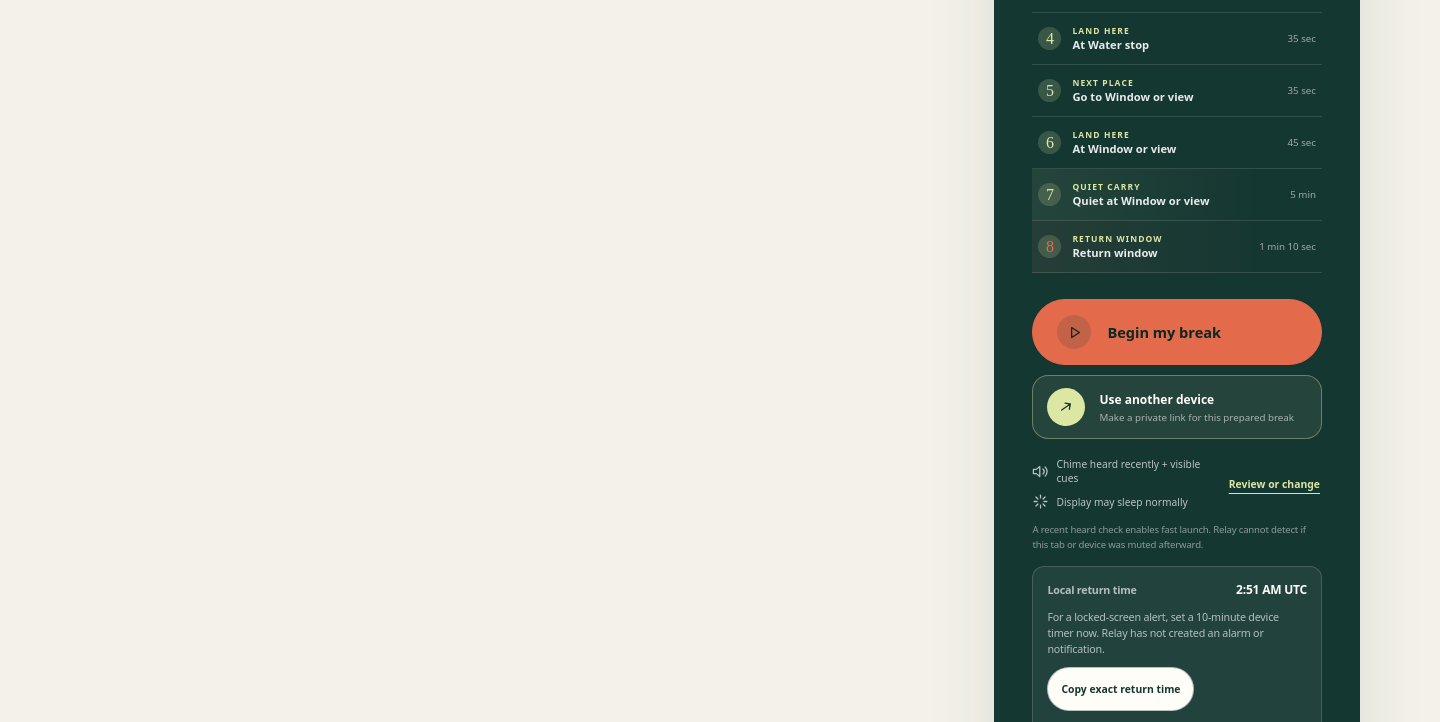
Test: Break Relay › honors explicit review-every-time without starting early
(page scrolled)
What coordinates should you click on to do the following:
click the button "Begin my break"
I would click on:
 (1177, 332)
Its box is [1032, 299, 1322, 365].
(page scrolled)
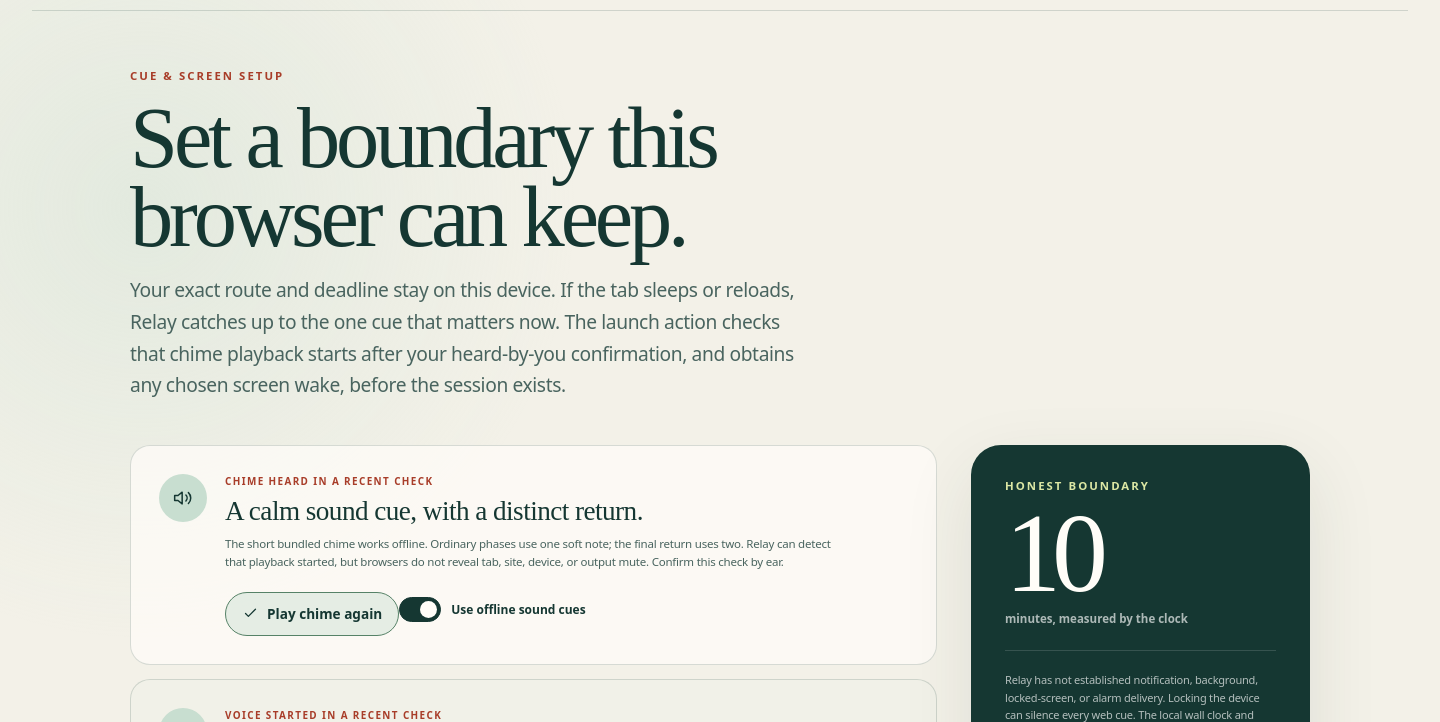
expect the heading "Set a boundary this browser can keep." is shown: met, box [130, 90, 716, 265]
